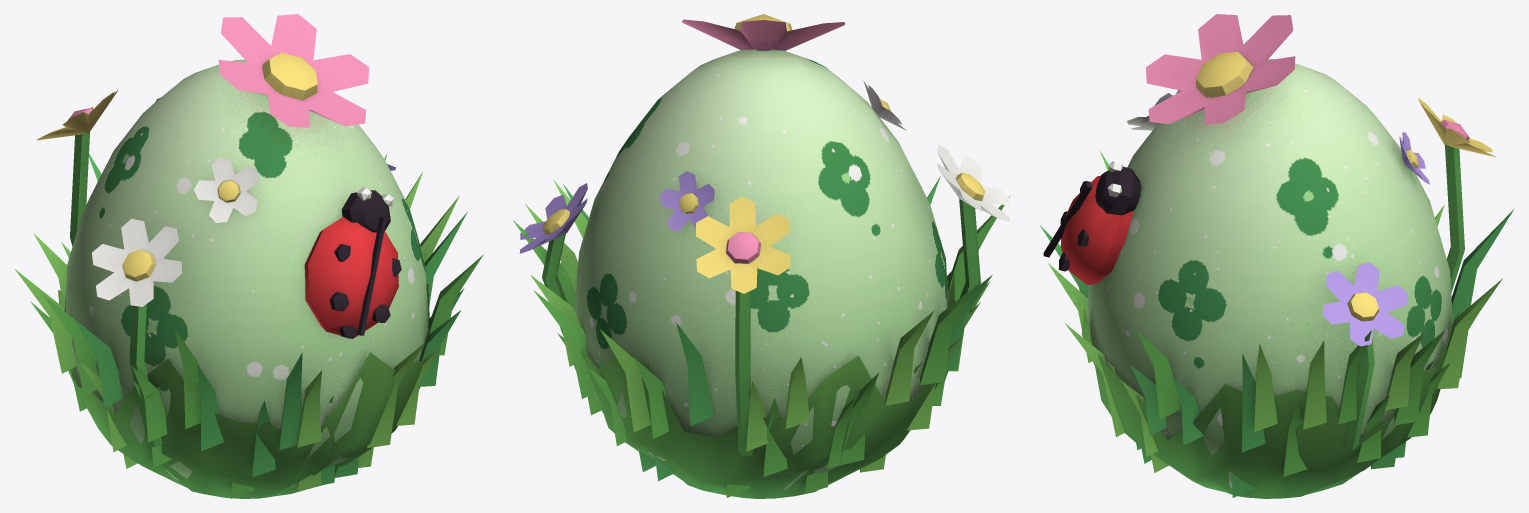
The model's file is egg_meadow.fbx.
3 views of the same model, side by side, from view 1: azimuth 30°, elevation 25°; view 2: azimuth 150°, elevation 25°; view 3: azimuth 270°, elevation 25° (orthographic). The views are drawn at different scales.
Visible parts, largest first — view 1: egg_meadow; view 2: egg_meadow; view 3: egg_meadow.
Boxes of the visible parts, bbox=[...] form: egg_meadow: bbox=[15, 14, 483, 498]; egg_meadow: bbox=[513, 14, 1010, 498]; egg_meadow: bbox=[1040, 14, 1513, 498].
Bounding box in the file's own units: 276 × 289 × 272.
1 material, 1 textured.
